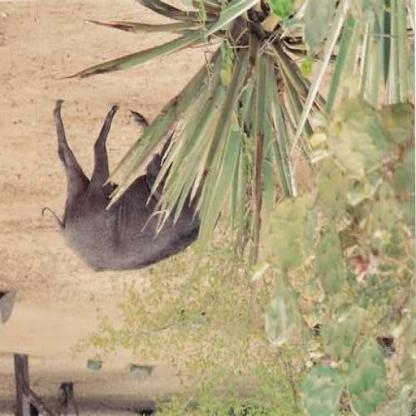boar: (52, 99, 231, 292)
